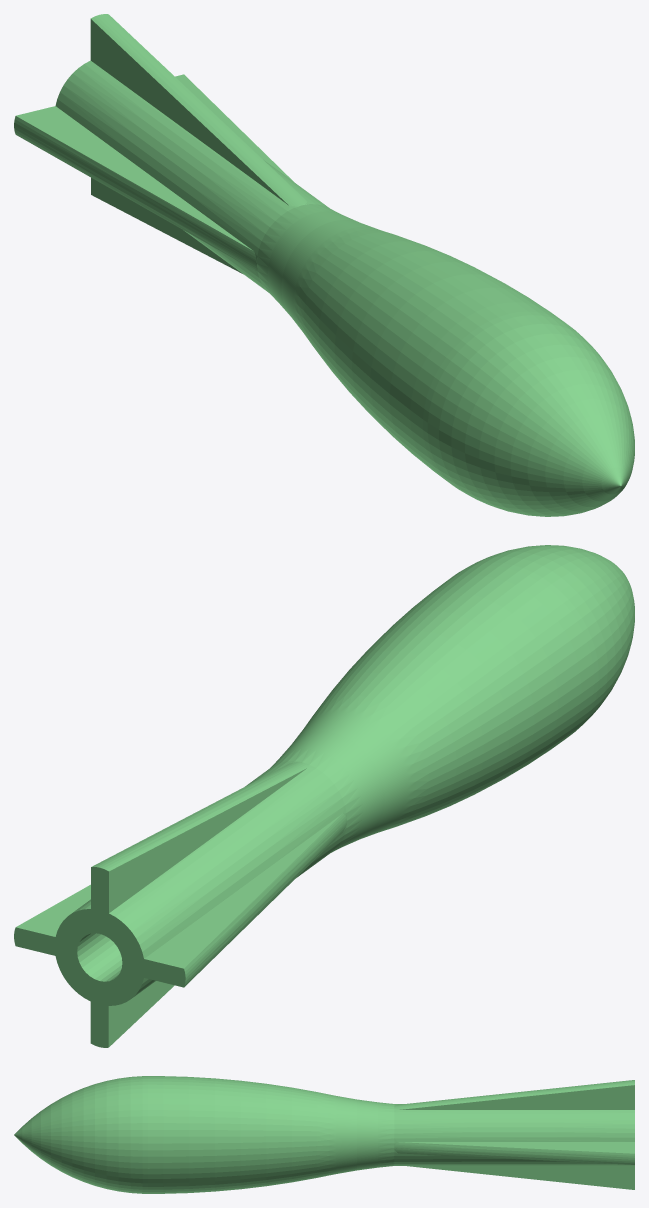
Rendered from torpedo.dae.
3 views of the same model, one above another, from view 1: azimuth 30°, elevation 25°; view 2: azimuth 150°, elevation 25°; view 3: azimuth 270°, elevation 25° (orthographic). The views are drawn at different scales.
Parts seen in each view (by area): view 1: ES-TORPEDO; view 2: ES-TORPEDO; view 3: ES-TORPEDO.
Part boxes in pixels (x1=…): ES-TORPEDO: x1=14, y1=14, x2=634, y2=516; ES-TORPEDO: x1=14, y1=545, x2=634, y2=1047; ES-TORPEDO: x1=14, y1=1076, x2=634, y2=1193.
Size of the model in its own units: 2.41 by 12.7 by 2.41.
